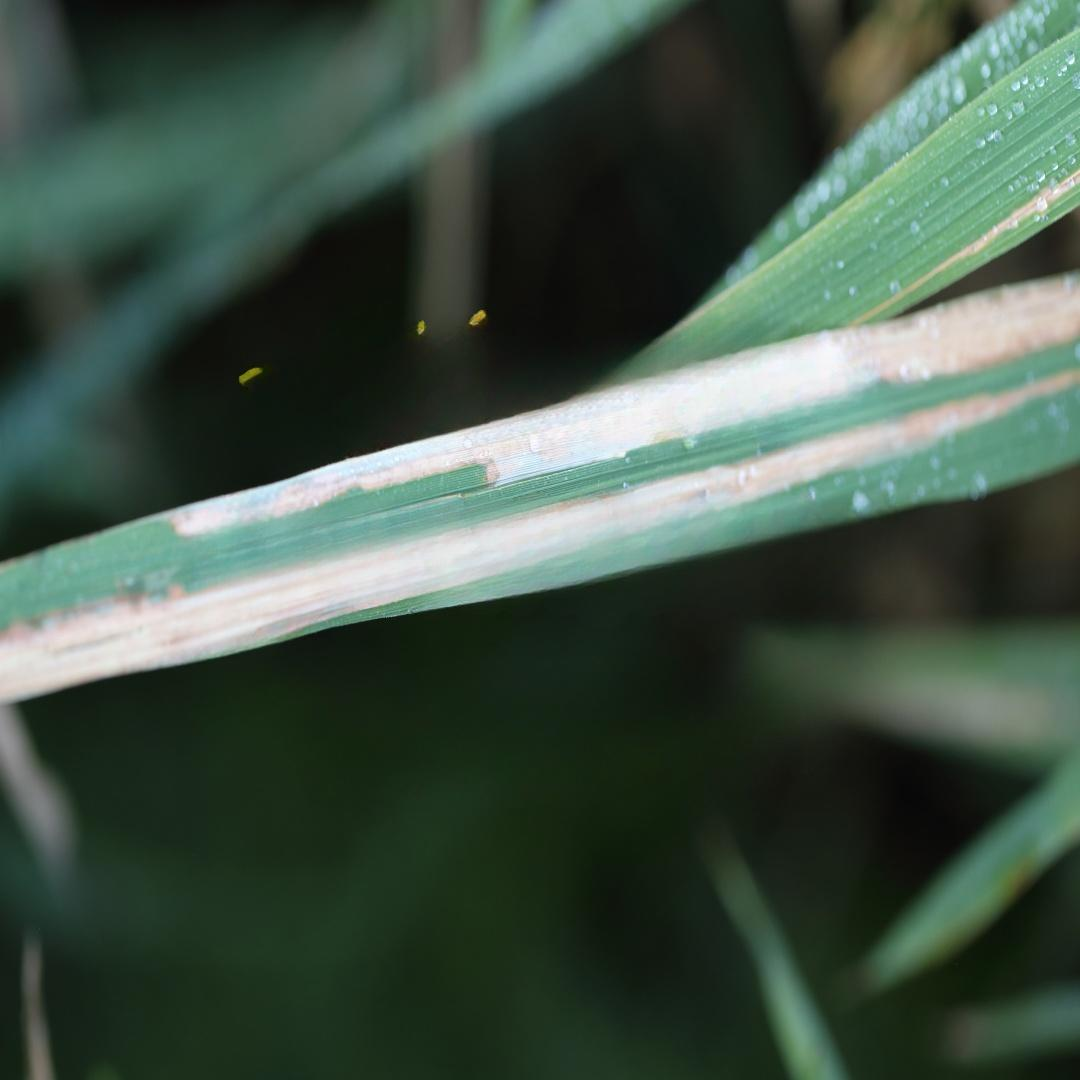BLB: (2, 369, 1079, 701), (165, 277, 1079, 538)
LEAF: (1, 271, 1080, 702)
